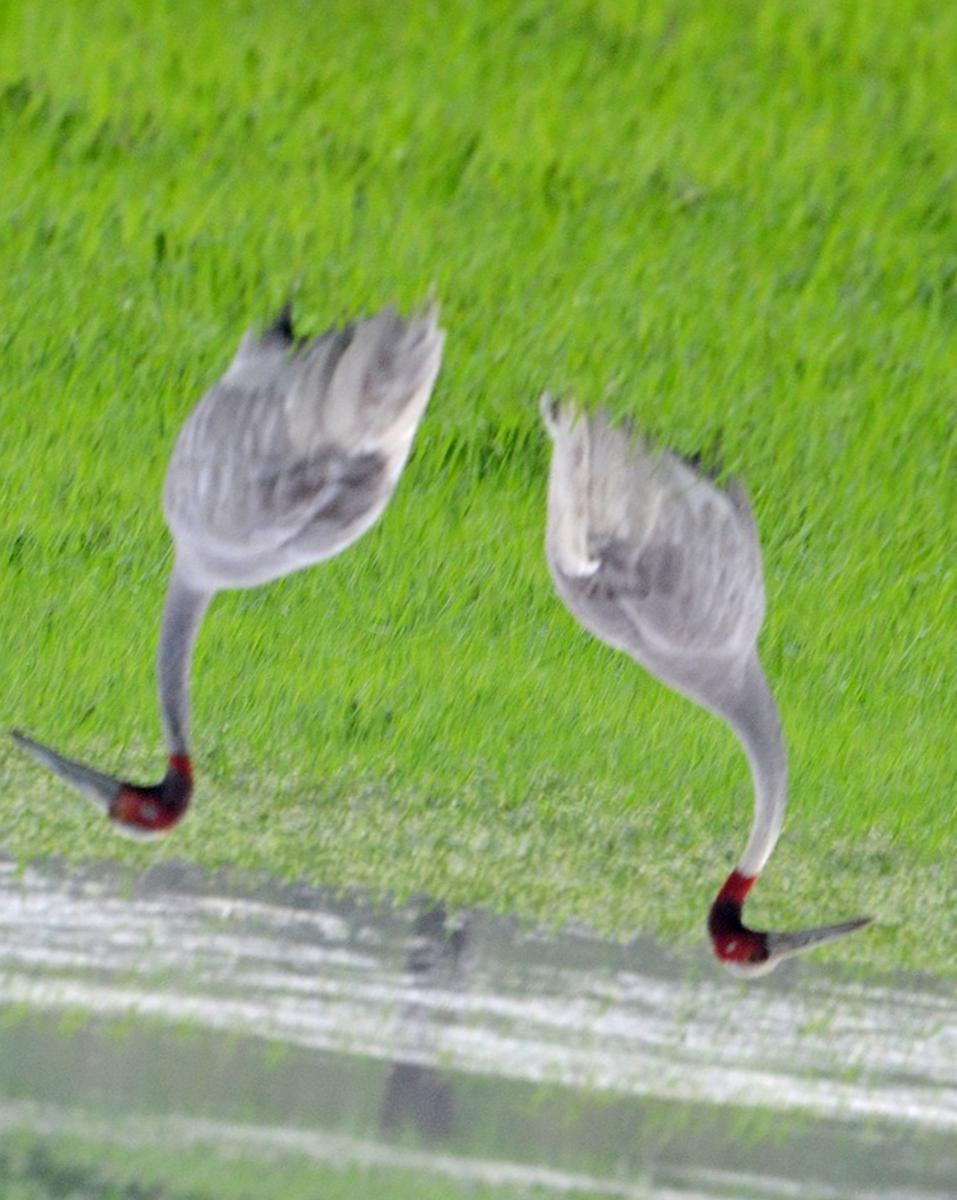crane: (1, 256, 433, 857), (522, 375, 883, 993)
